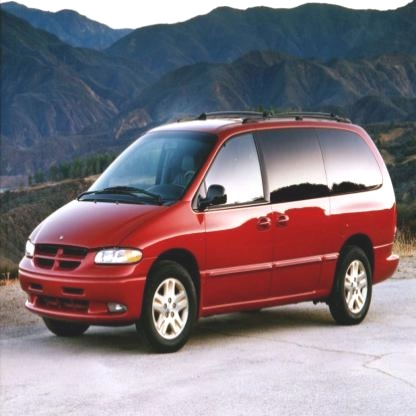Vehicle: (16, 110, 402, 354)
